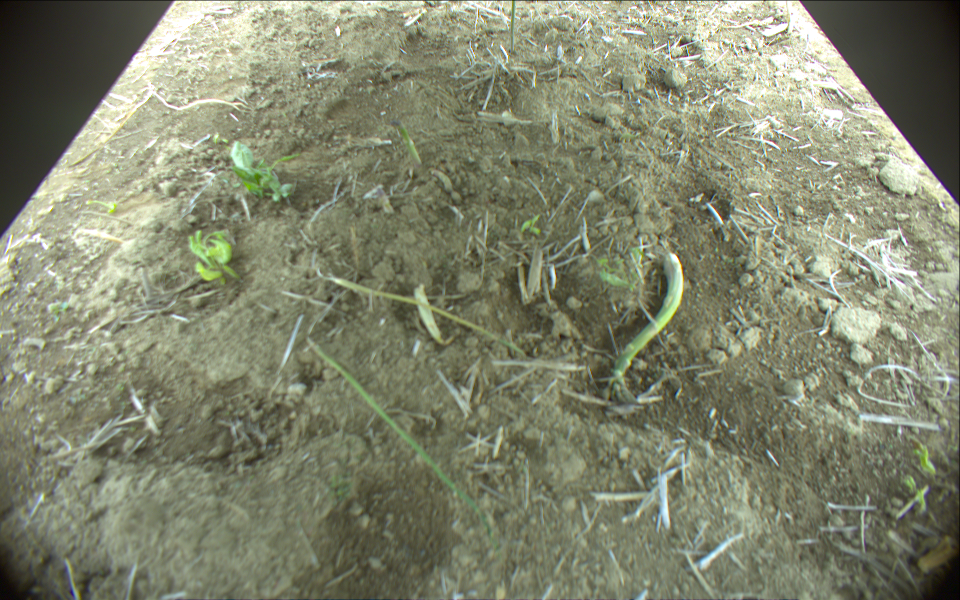aspa: (305, 337, 486, 522), (329, 274, 522, 353), (612, 247, 684, 401), (396, 117, 423, 165), (509, 1, 519, 51)
